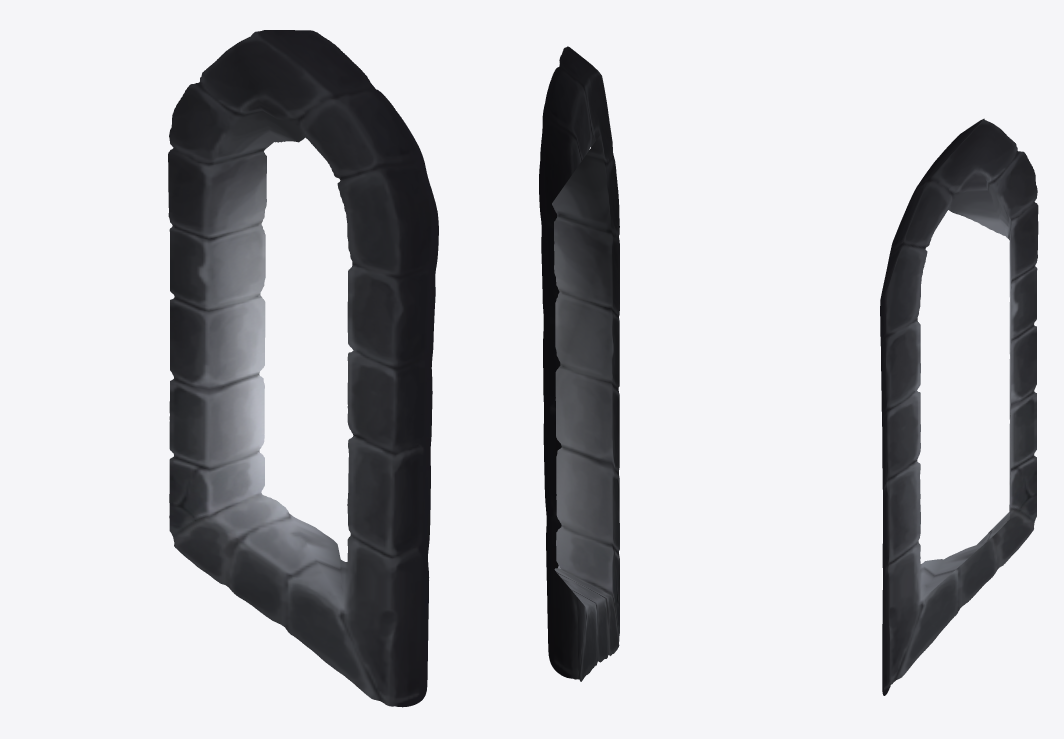
The model's file is Catle Tower_Stone Window.FBX.
The picture shows the model from 3 angles, left to right: view 1: azimuth 30°, elevation 25°; view 2: azimuth 150°, elevation 25°; view 3: azimuth 270°, elevation 25°; orthographic projection. The views are drawn at different scales.
Parts seen in each view (by area): view 1: Stone Window; view 2: Stone Window; view 3: Stone Window.
Boxes of the visible parts, box(x1,y1,x2,y2) form: Stone Window: box(168, 30, 438, 707); Stone Window: box(539, 46, 619, 681); Stone Window: box(880, 118, 1038, 695).
Bounding box in the file's own units: 292 × 136 × 482.
